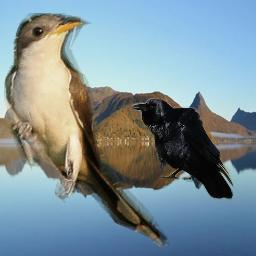Crow: (131, 98, 235, 201)
Cuckoo: (4, 13, 170, 253)
